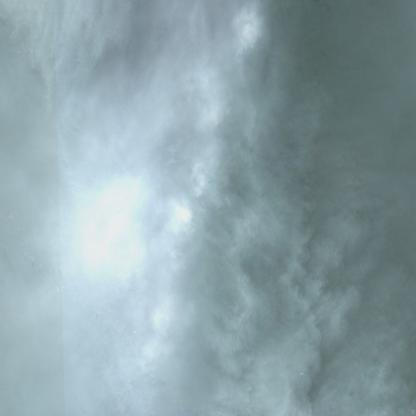fire: (144, 17, 262, 362)
